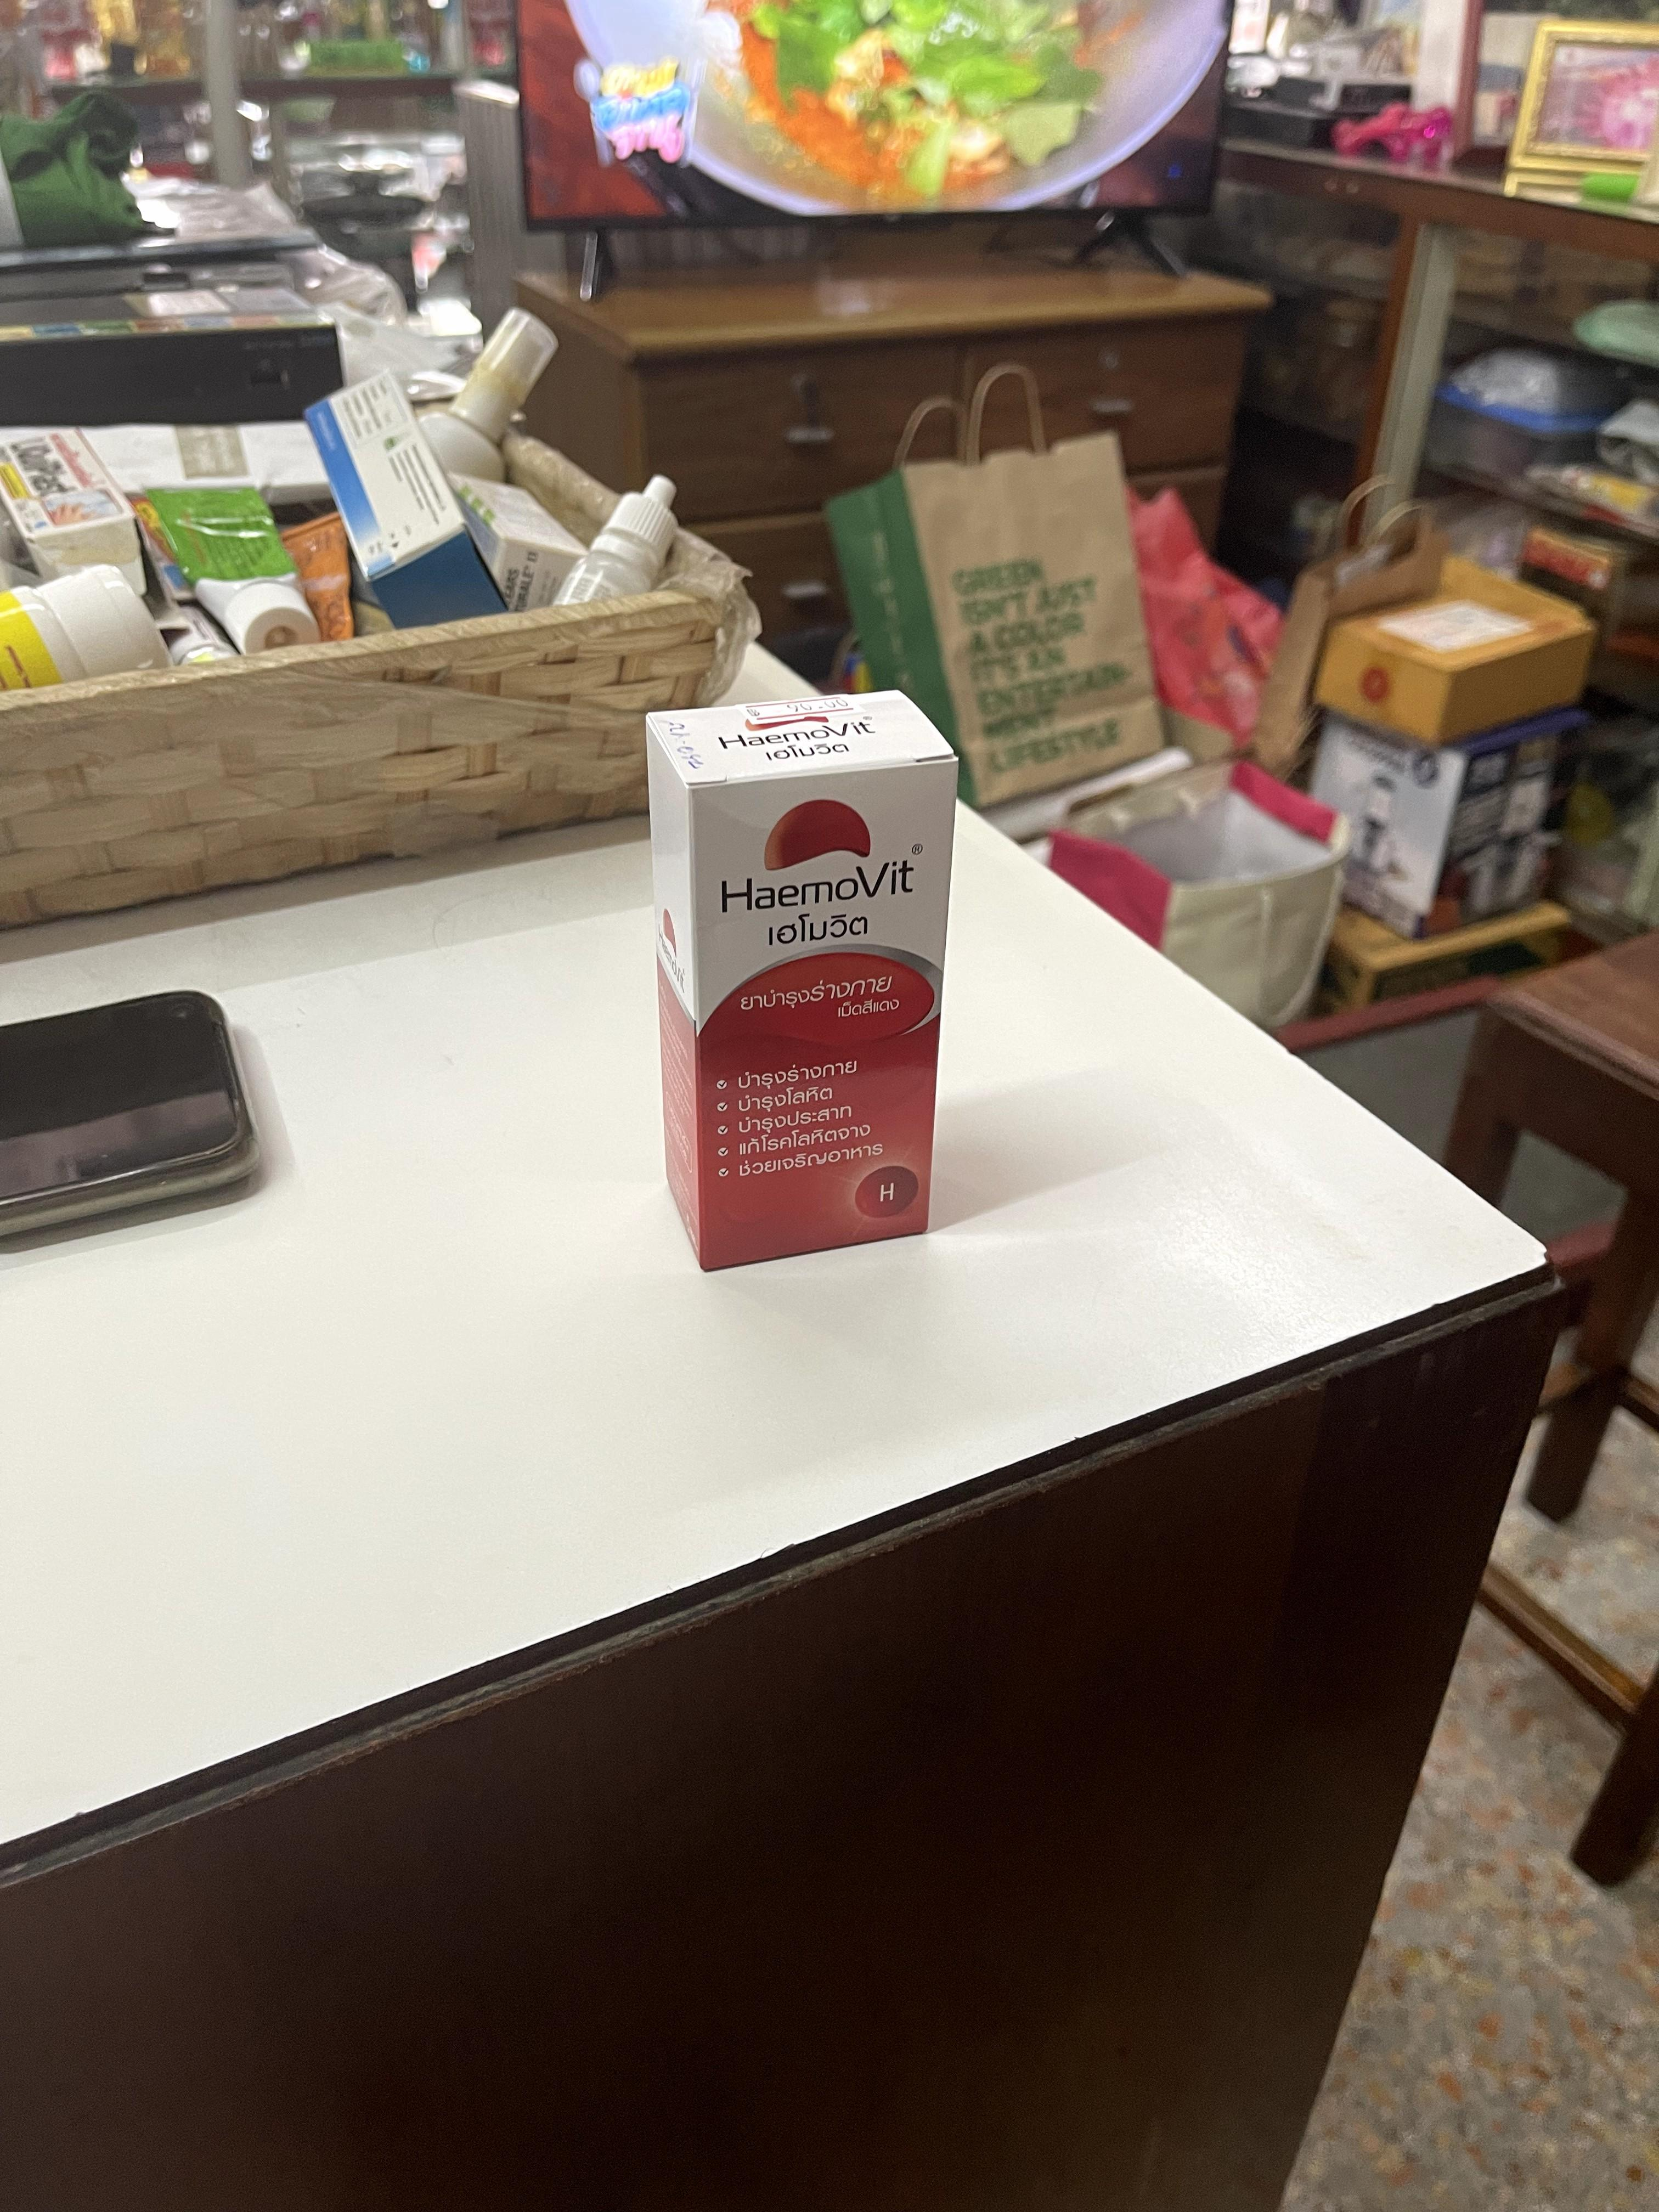Heamovit: (641, 686, 957, 1275)
